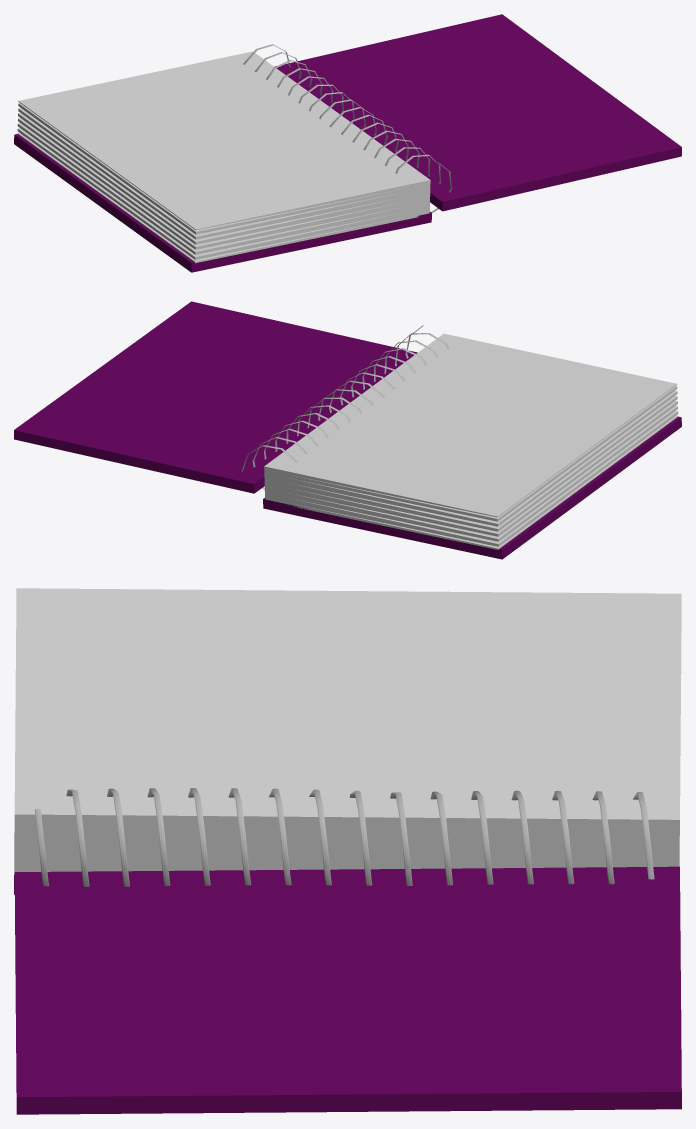
File: openNotebook.fbx
3 views of the same model, one above another, from view 1: azimuth 30°, elevation 25°; view 2: azimuth 150°, elevation 25°; view 3: azimuth 270°, elevation 25° (orthographic). The views are drawn at different scales.
Parts seen in each view (by area): view 1: open_notebook; view 2: open_notebook; view 3: open_notebook.
Part boxes in pixels (box(x1,y1,x2,y2)): open_notebook: box(14, 14, 681, 272); open_notebook: box(14, 301, 681, 559); open_notebook: box(14, 588, 681, 1114).
Bounding box in the file's own units: 1.35 × 0.1581 × 0.8518.
